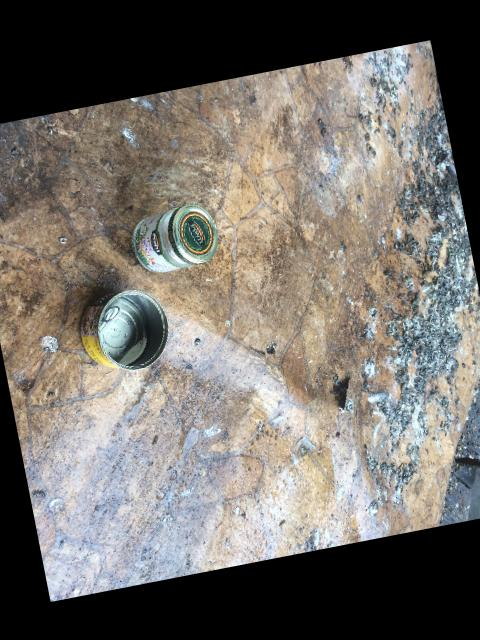metal: (80, 288, 168, 368), (132, 202, 217, 271)
